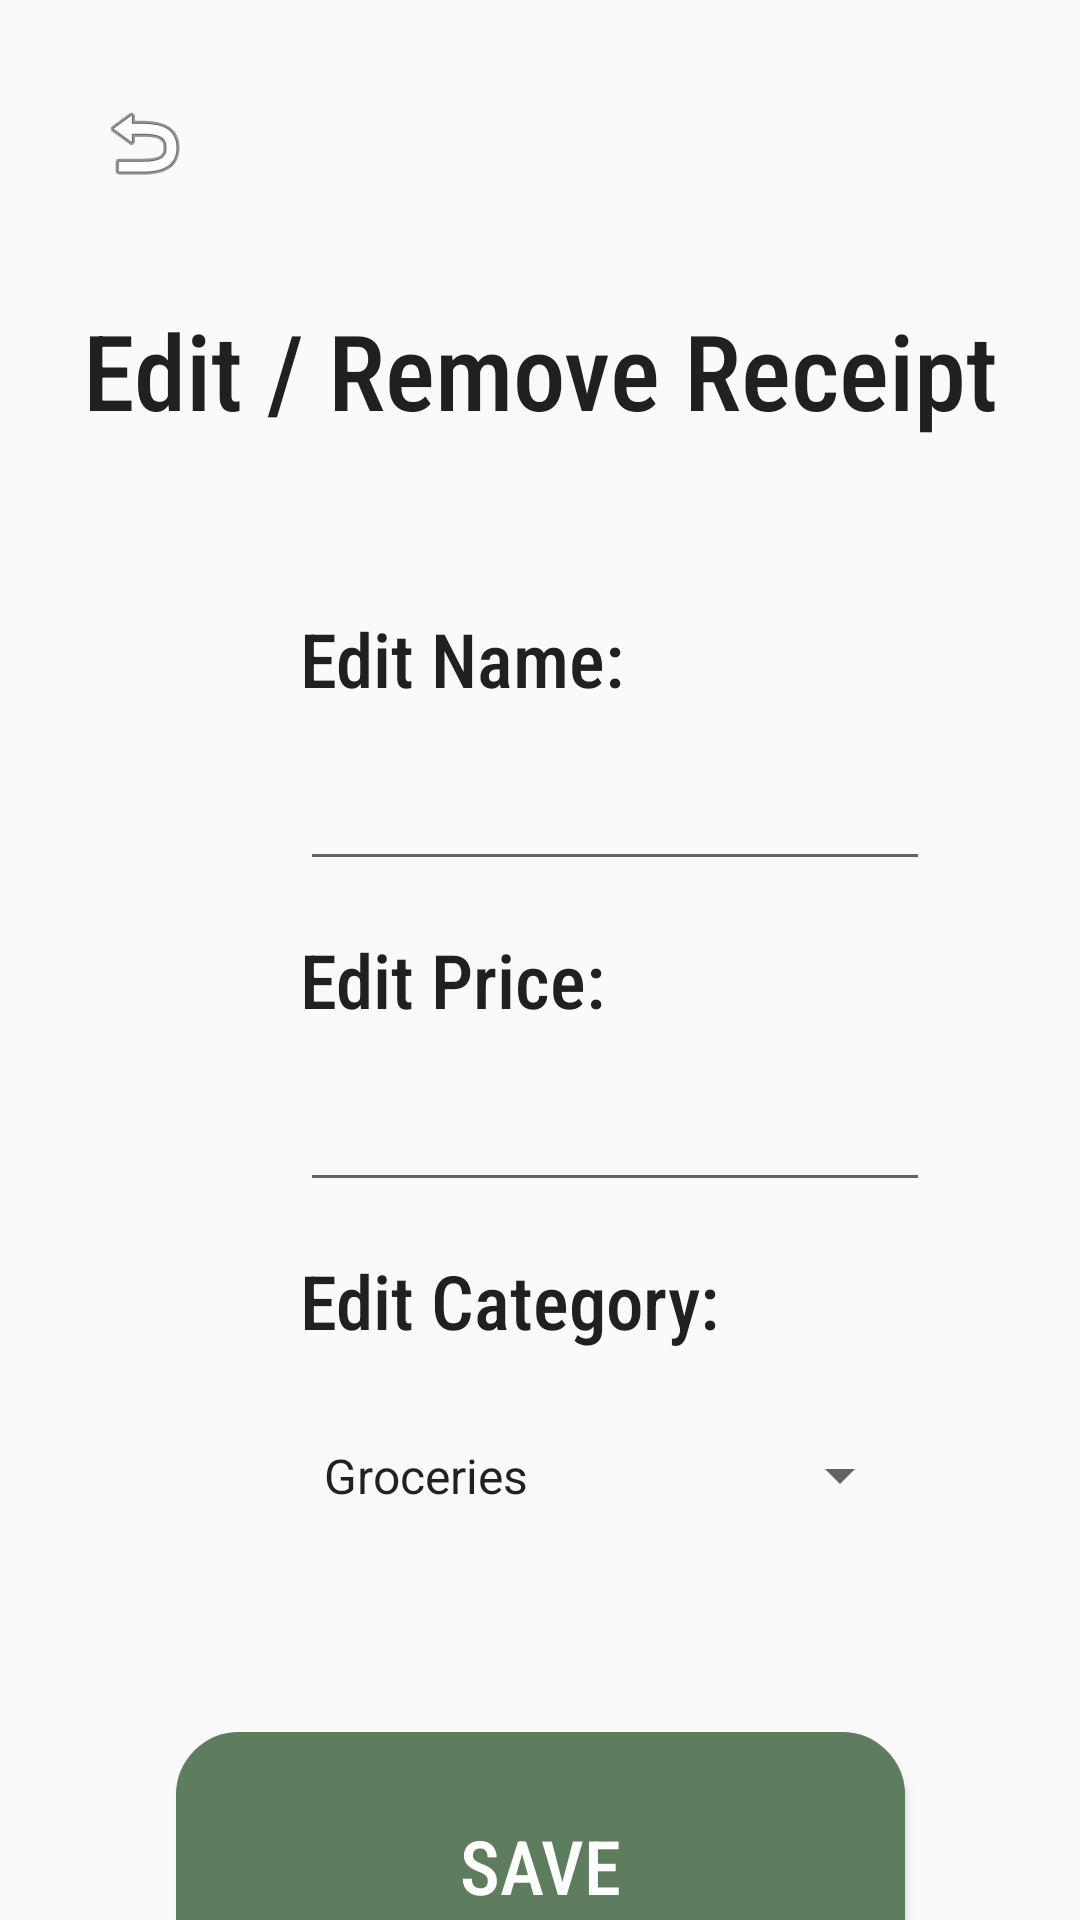

Icon bounding boxes for this 1080×1920 phone screenshot, format (x1, y1, x2, y2):
revert: (111, 112, 180, 175)
